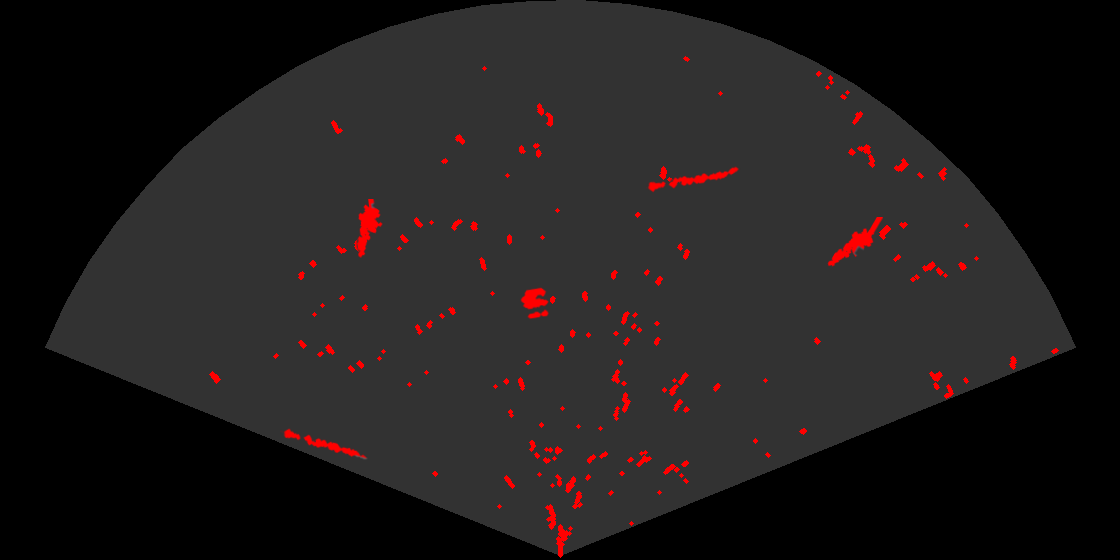ball: (519, 286, 550, 321)
chain: (280, 427, 369, 460), (646, 165, 741, 194)
frogman: (826, 217, 883, 268), (356, 199, 384, 258)
